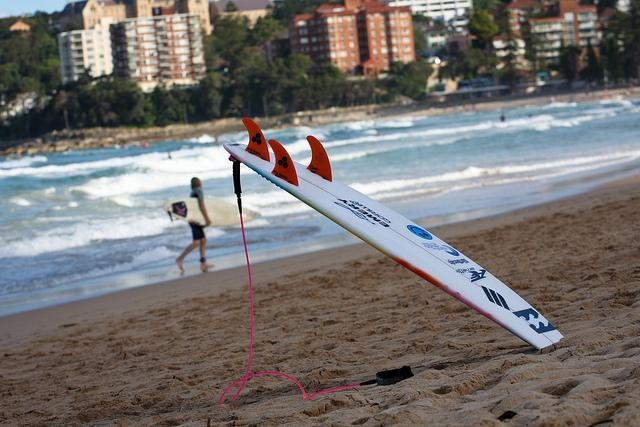person: (174, 176, 210, 272)
